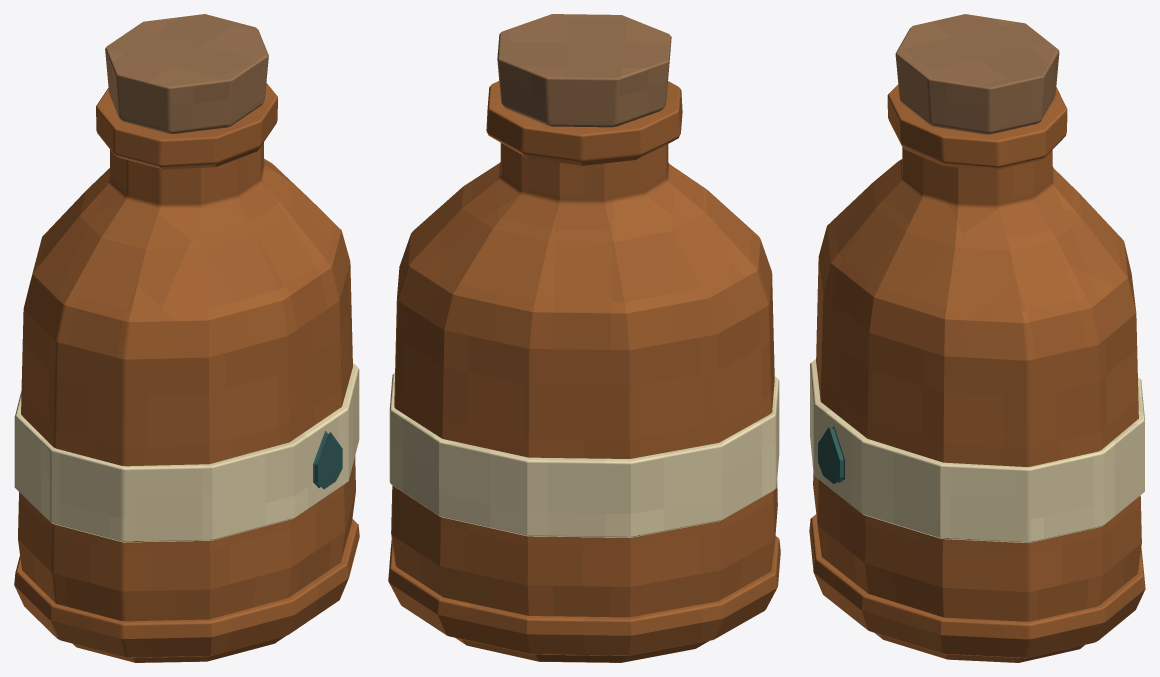
Rendered from ApothecaryBottle.glb.
3 views of the same model, side by side, from view 1: azimuth 30°, elevation 25°; view 2: azimuth 150°, elevation 25°; view 3: azimuth 270°, elevation 25° (orthographic). The views are drawn at different scales.
Parts seen in each view (by area): view 1: ApothecaryBottle.Vessel, ApothecaryBottle.Body-band, ApothecaryBottle.Stopper, ApothecaryBottle.Foot, ApothecaryBottle.Neck-lip, ApothecaryBottle.Drop-seal; view 2: ApothecaryBottle.Vessel, ApothecaryBottle.Body-band, ApothecaryBottle.Stopper, ApothecaryBottle.Foot, ApothecaryBottle.Neck-lip; view 3: ApothecaryBottle.Vessel, ApothecaryBottle.Body-band, ApothecaryBottle.Stopper, ApothecaryBottle.Foot, ApothecaryBottle.Neck-lip, ApothecaryBottle.Drop-seal.
Part boxes in pixels (x1=…): ApothecaryBottle.Vessel: x1=18, y1=142, x2=355, y2=662; ApothecaryBottle.Body-band: x1=14, y1=363, x2=359, y2=542; ApothecaryBottle.Stopper: x1=105, y1=14, x2=268, y2=133; ApothecaryBottle.Foot: x1=14, y1=519, x2=359, y2=657; ApothecaryBottle.Neck-lip: x1=96, y1=83, x2=277, y2=169; ApothecaryBottle.Drop-seal: x1=313, y1=431, x2=342, y2=489; ApothecaryBottle.Vessel: x1=391, y1=143, x2=777, y2=662; ApothecaryBottle.Body-band: x1=389, y1=372, x2=779, y2=537; ApothecaryBottle.Stopper: x1=497, y1=14, x2=671, y2=127; ApothecaryBottle.Foot: x1=388, y1=536, x2=780, y2=655; ApothecaryBottle.Neck-lip: x1=486, y1=81, x2=682, y2=165; ApothecaryBottle.Vessel: x1=813, y1=147, x2=1141, y2=662; ApothecaryBottle.Body-band: x1=810, y1=359, x2=1144, y2=543; ApothecaryBottle.Stopper: x1=895, y1=14, x2=1059, y2=134; ApothecaryBottle.Foot: x1=809, y1=514, x2=1145, y2=658; ApothecaryBottle.Neck-lip: x1=887, y1=84, x2=1067, y2=169; ApothecaryBottle.Drop-seal: x1=818, y1=426, x2=844, y2=483.
Size of the model in its own units: 0.2641 by 0.4264 by 0.2361.
4 materials, 4 textured.
